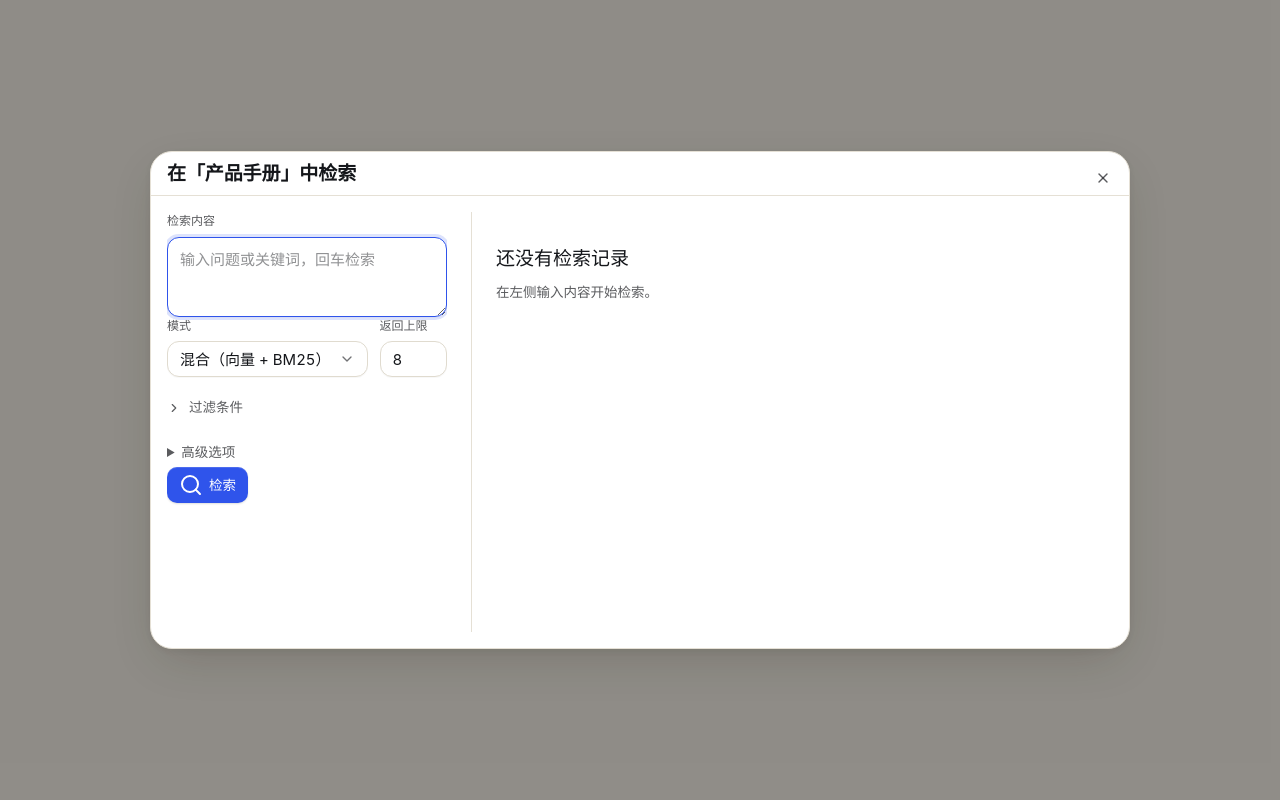
Test case: 库内检索面板 › 那一格清空后按默认 8 发，检索按钮照旧能用
Clear the number field labelled "返回上限" at (413,359), box top-left (380, 341), bottom-right (447, 377)
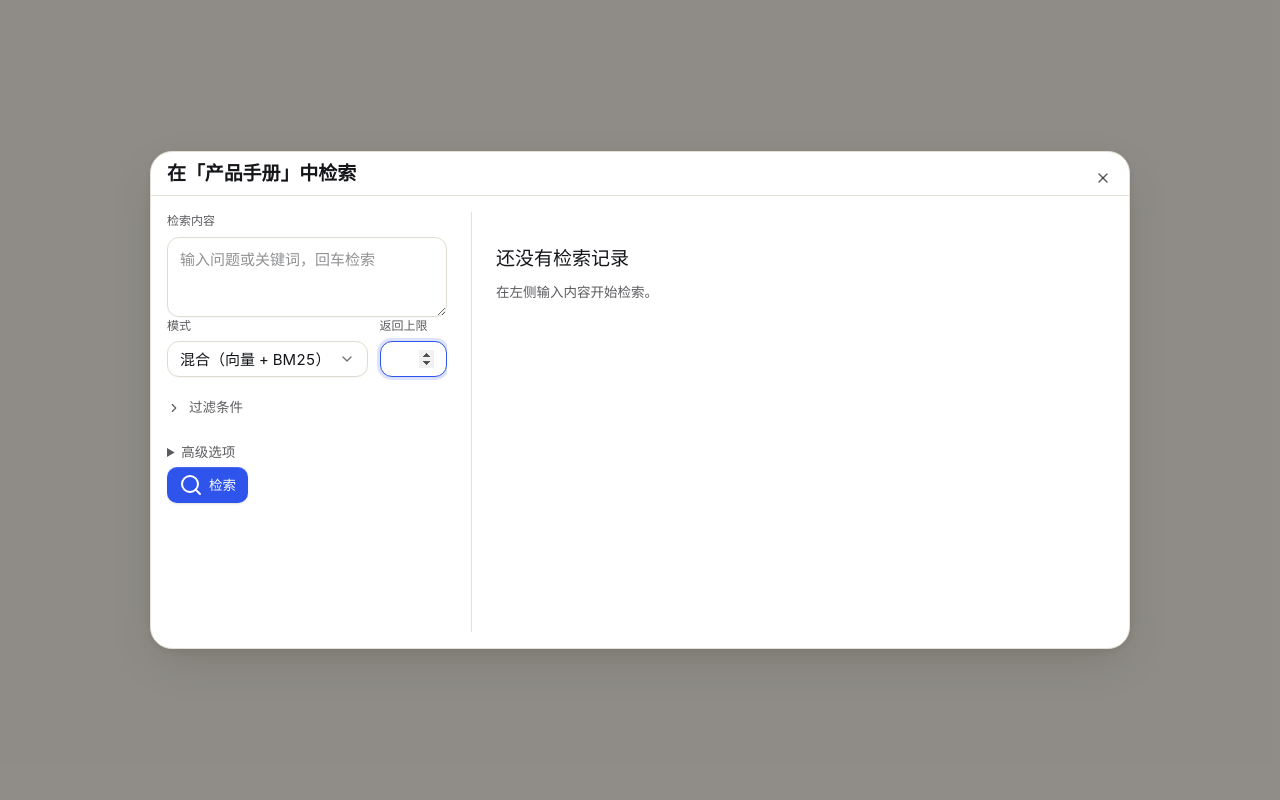
Type "近视" into the text box labelled "检索内容" at (307,277), box top-left (167, 237), bottom-right (447, 317)
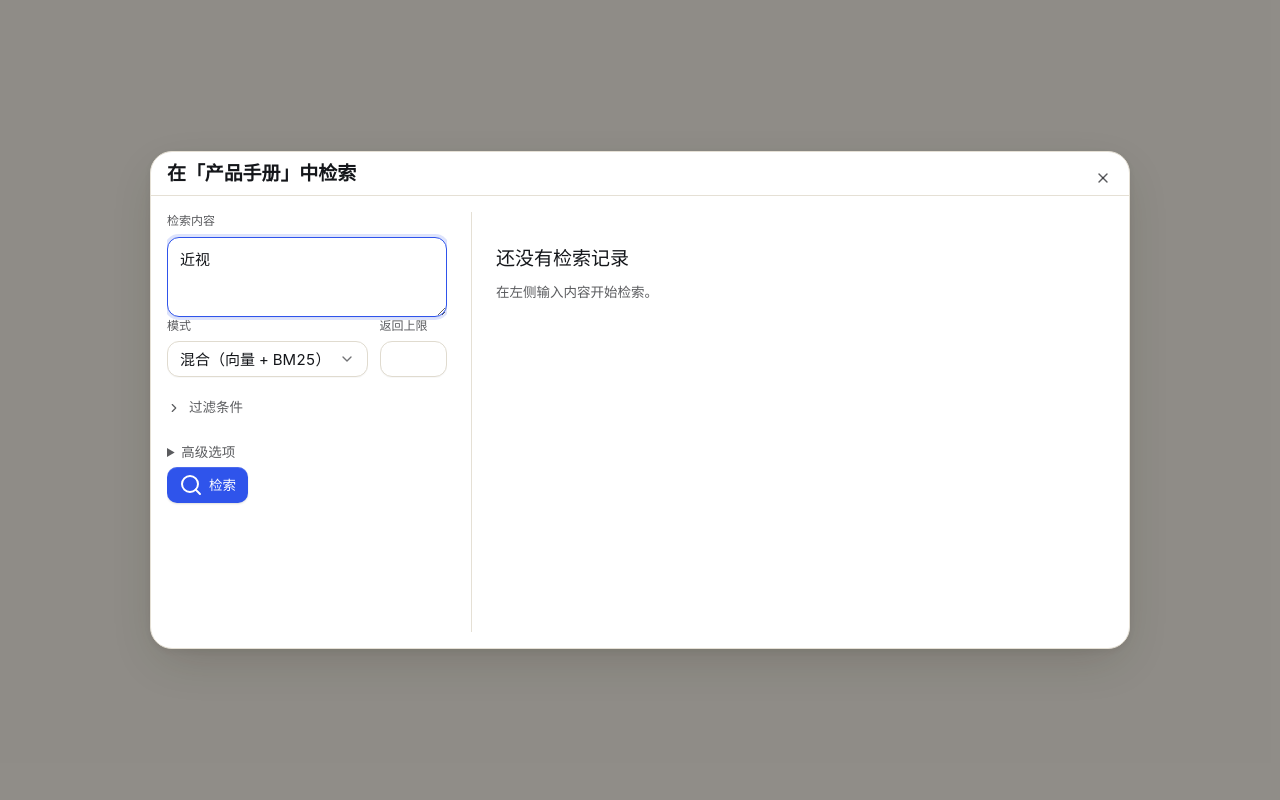
Click the button "检索" at (208,485), box top-left (167, 467), bottom-right (248, 503)
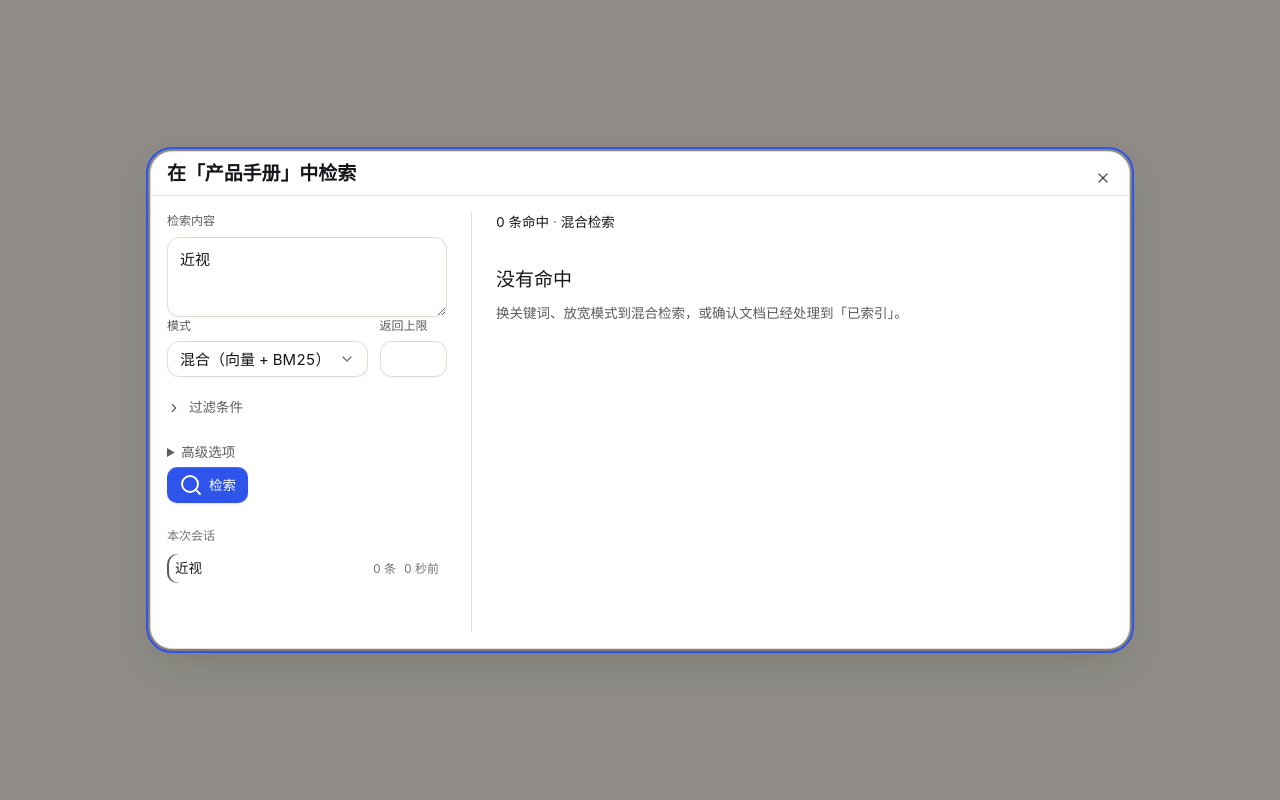
Check: the text "没有命中" is shown, box top-left (496, 265), bottom-right (572, 294)
